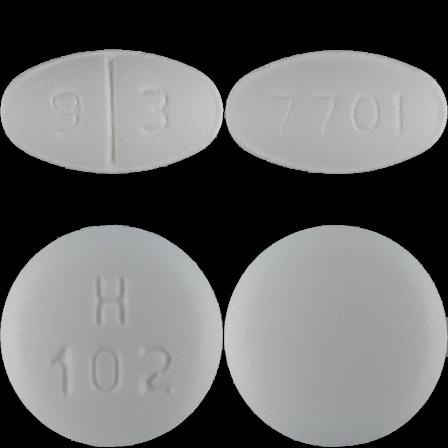35356-784: (0, 0, 224, 224)
